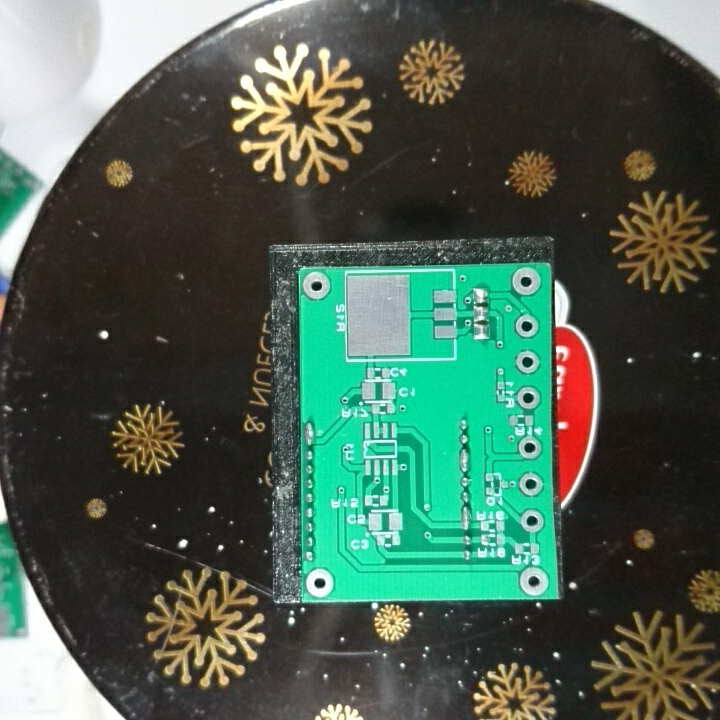F: (517, 564, 551, 597), (300, 269, 332, 301), (305, 566, 336, 599), (511, 266, 544, 296), (512, 349, 542, 375), (512, 312, 541, 338), (517, 435, 544, 462), (519, 507, 545, 535), (517, 471, 544, 497), (515, 384, 542, 409)
P: (302, 420, 319, 447), (458, 446, 474, 474), (459, 503, 474, 532)
